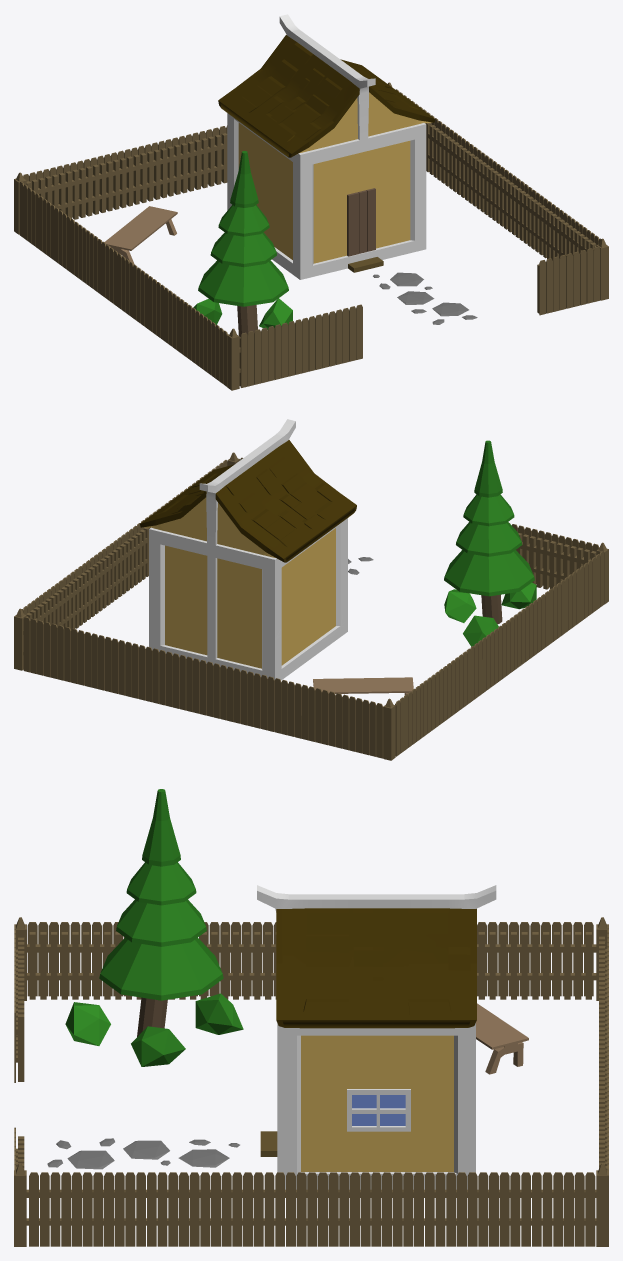
The model's file is 1lvl_yellow.fbx.
3 renders of one model, top to bottom at view 1: azimuth 30°, elevation 25°; view 2: azimuth 150°, elevation 25°; view 3: azimuth 270°, elevation 25°, orthographic. The views are drawn at different scales.
Parts seen in each view (by area): view 1: yellow; view 2: yellow; view 3: yellow.
Part boxes in pixels (box(x1,y1,x2,y2)): yellow: box(14, 14, 608, 390); yellow: box(14, 419, 608, 760); yellow: box(14, 789, 608, 1246).
Bounding box in the file's own units: 95.66 × 46.2 × 95.74.
